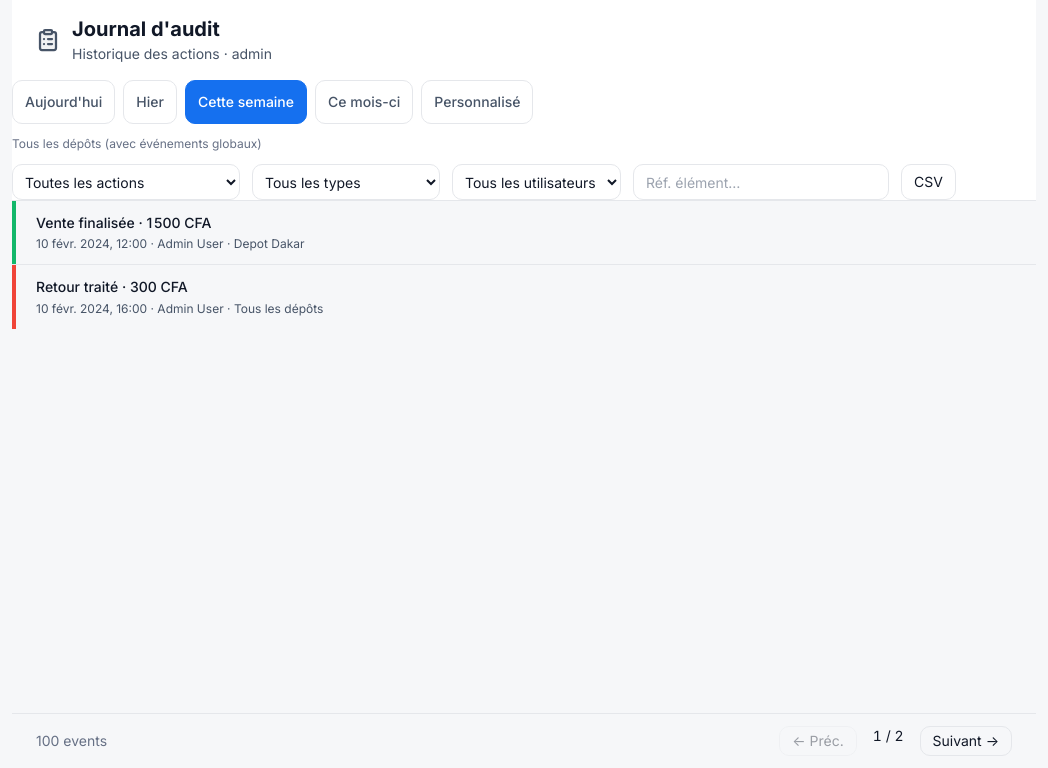
AuditPage › paginates when more than one page of events exists
The width and height of the screenshot is (1048, 768).
Check: the text "100 events" is shown, box [36, 731, 107, 751]
Check: the text "1 / 2" is shown, box [873, 727, 904, 744]
Step 1. Click the button "Suivant →" → (966, 741), box [920, 726, 1012, 756]
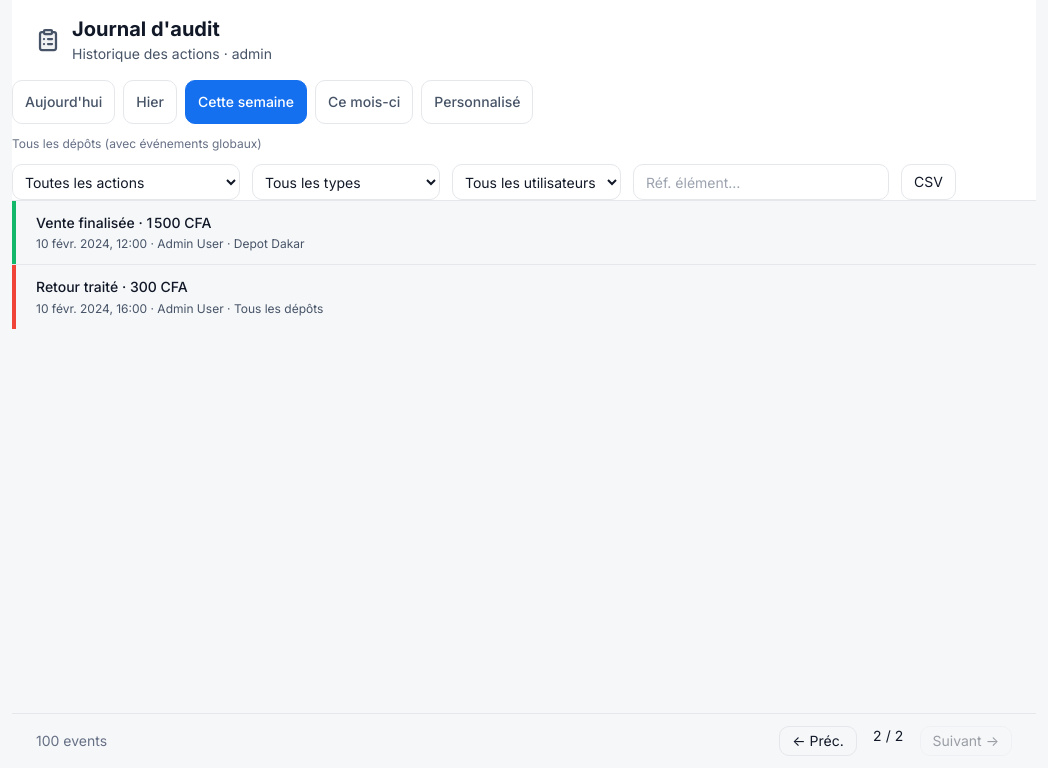
Check: the text "2 / 2" is shown, box [873, 727, 904, 744]
